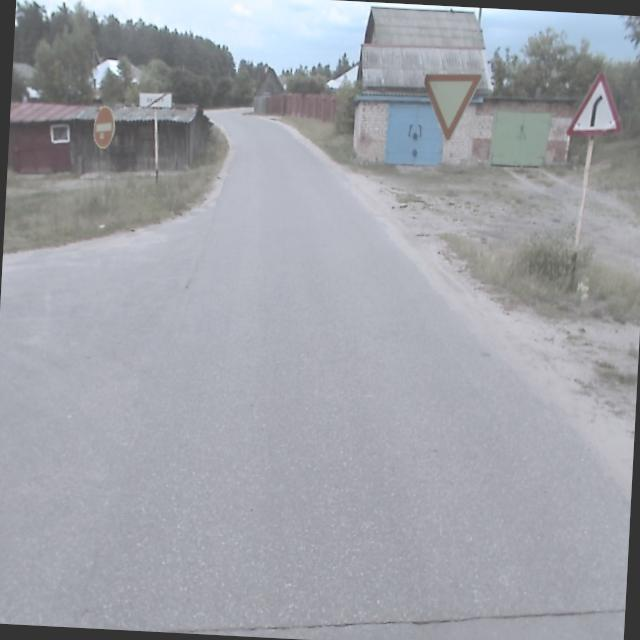road: (0, 111, 630, 640)
